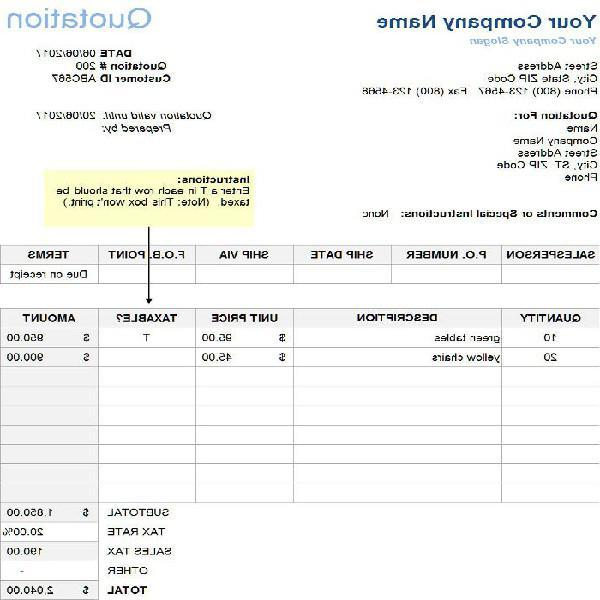test: (0, 0, 599, 599)
